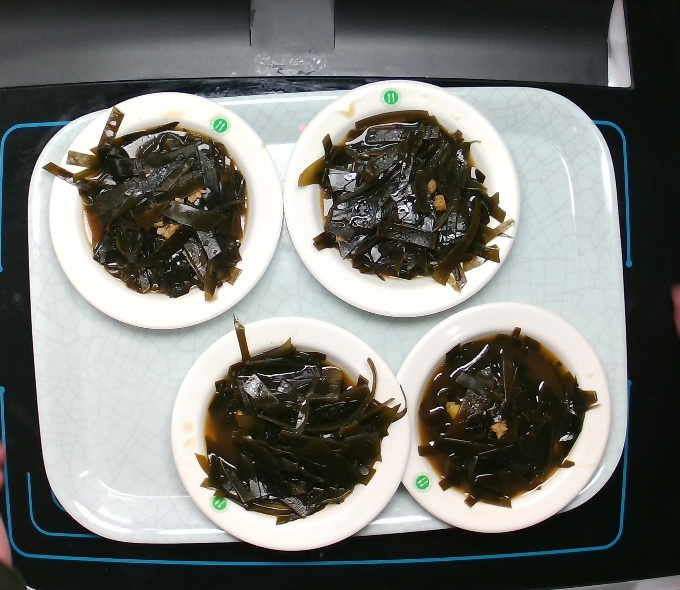wcq-HaiDai: (198, 343, 399, 524), (311, 106, 508, 288), (59, 124, 248, 306), (413, 335, 588, 508)
